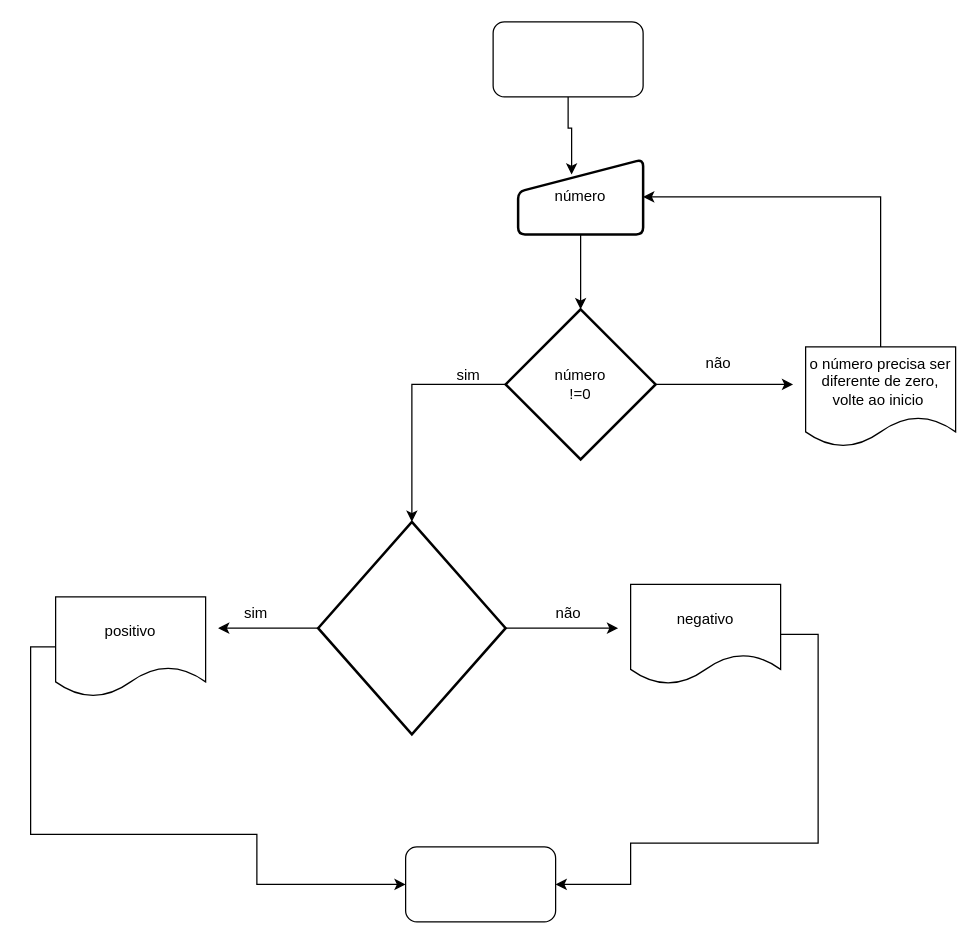
This 978x944 diagram has some shape labels left out. Each missing label, with the box of its shape:
fim: (404, 846, 556, 922)
início: (492, 21, 643, 97)
número >0: (316, 520, 506, 735)
